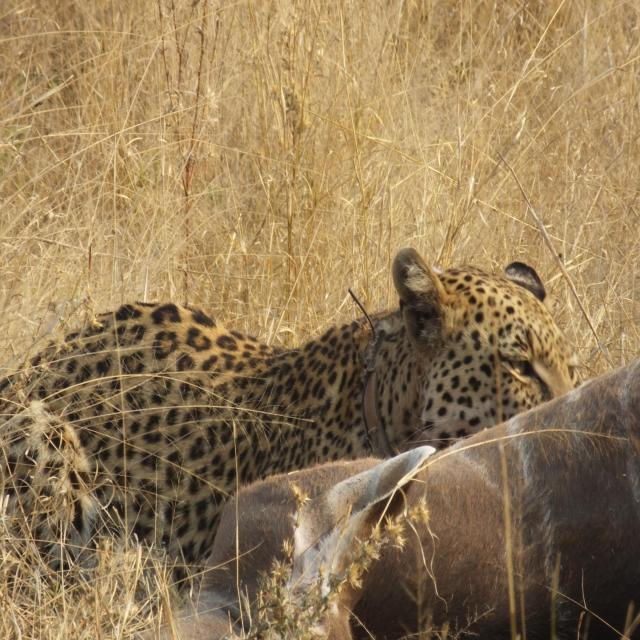Leopard: (23, 233, 580, 588)
